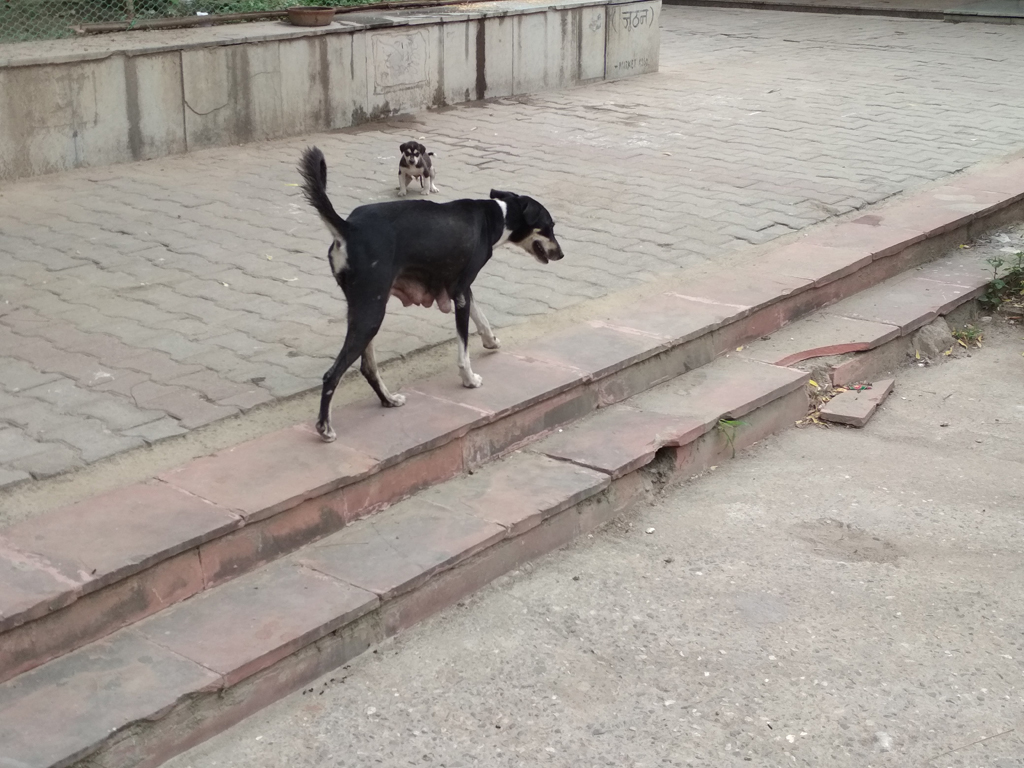dog: (301, 147, 564, 442), (391, 141, 438, 197)
